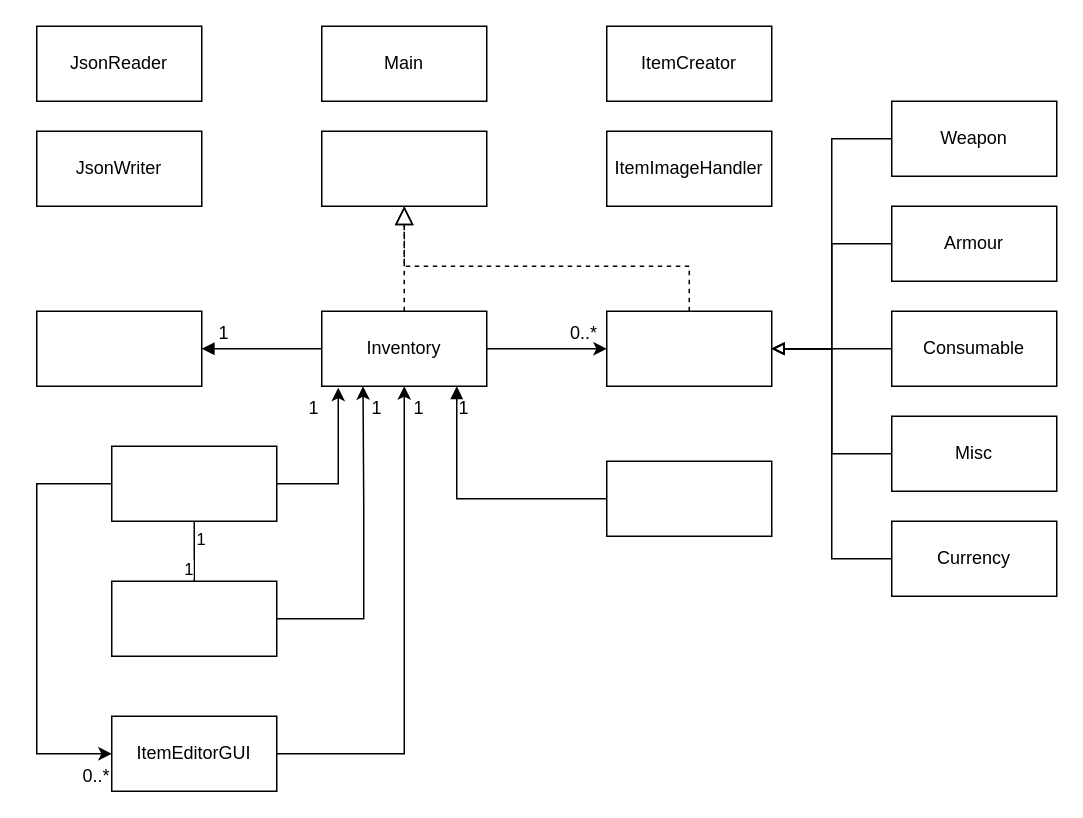
The diagram is 1083 pixels wide and 818 high, and some of its shapes have lost their labels. Here are the shapes that lost their labels. From the top down, the centre of each, then its label:
(x=403, y=168): «interface» Writable
(x=118, y=348): Sort
(x=688, y=348): <Abstract> Item
(x=193, y=483): InventoryGUI
(x=688, y=498): InventoryHandlerUI
(x=193, y=618): InventoryPanelGUI
